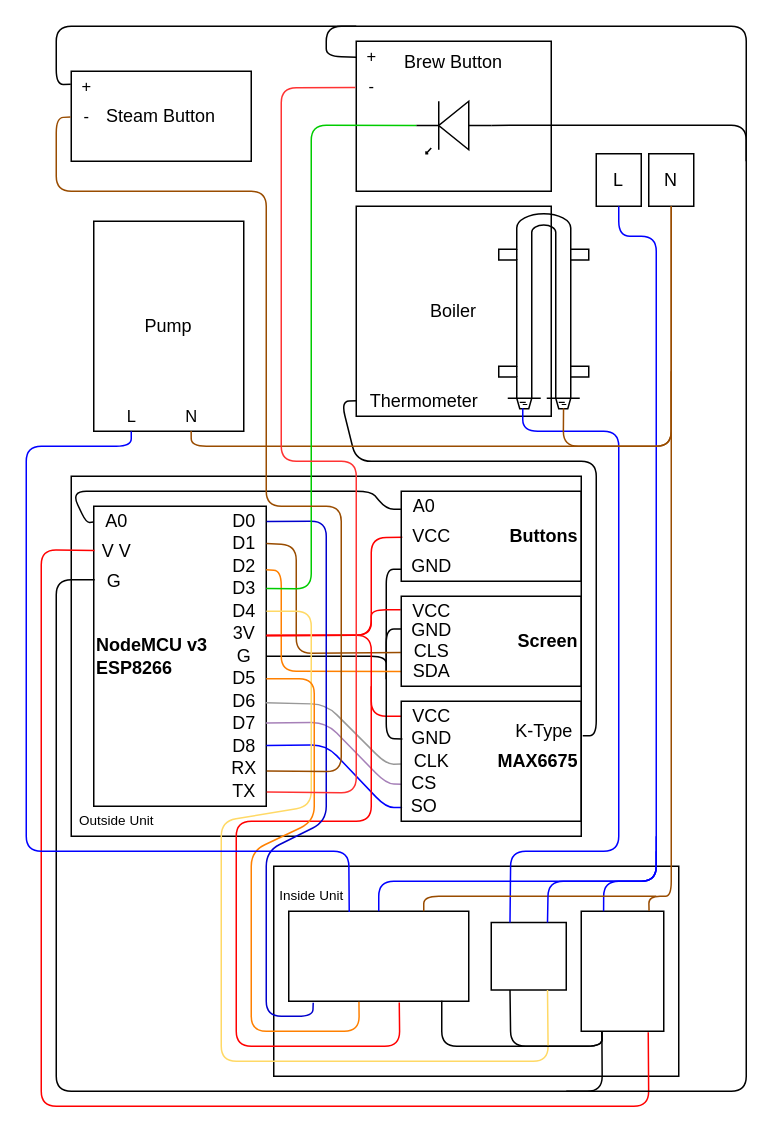
The diagram is 774 pixels wide and 1134 high, and some of its shapes have lost their labels. Each missing label, with the centre of its shape:
"indicator led" belongs at point (453, 127).
"L N 5V Power Supply + -" belongs at point (622, 970).
"Lout Lin N Dimmer ZC PSM VCC GND" belongs at point (378, 955).
"Lout Lin Relay + -" belongs at point (528, 955).
